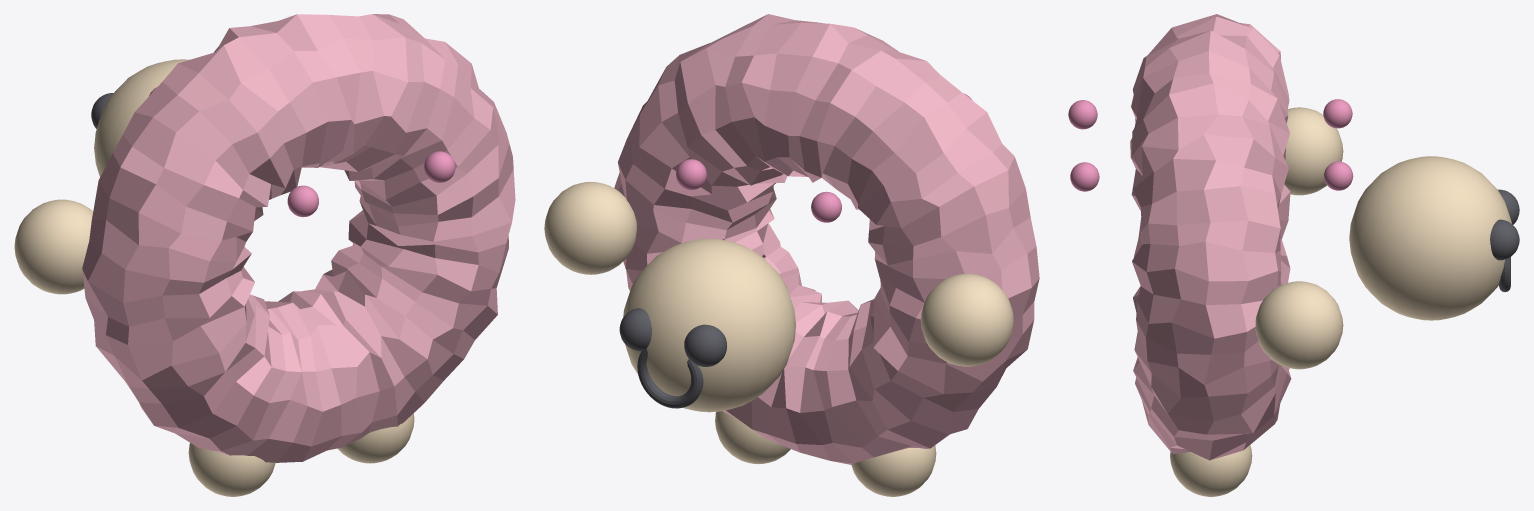
The model's file is clay_donut.glb.
3 views of the same model, side by side, from view 1: azimuth 30°, elevation 25°; view 2: azimuth 150°, elevation 25°; view 3: azimuth 270°, elevation 25° (orthographic). The views are drawn at different scales.
Visible parts, largest first — view 1: leg.001; view 2: leg.001; view 3: leg.001.
Part boxes in pixels (left/top/right/bottom): leg.001: left=14, top=14, right=515, bottom=496; leg.001: left=544, top=14, right=1039, bottom=496; leg.001: left=1068, top=14, right=1519, bottom=496.
Size of the model in its own units: 1.7 by 1.61 by 1.54.
